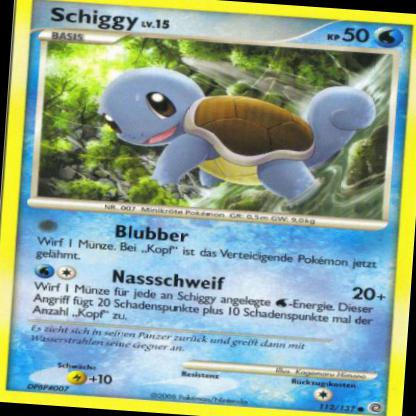Squirtle: (88, 57, 385, 212)
